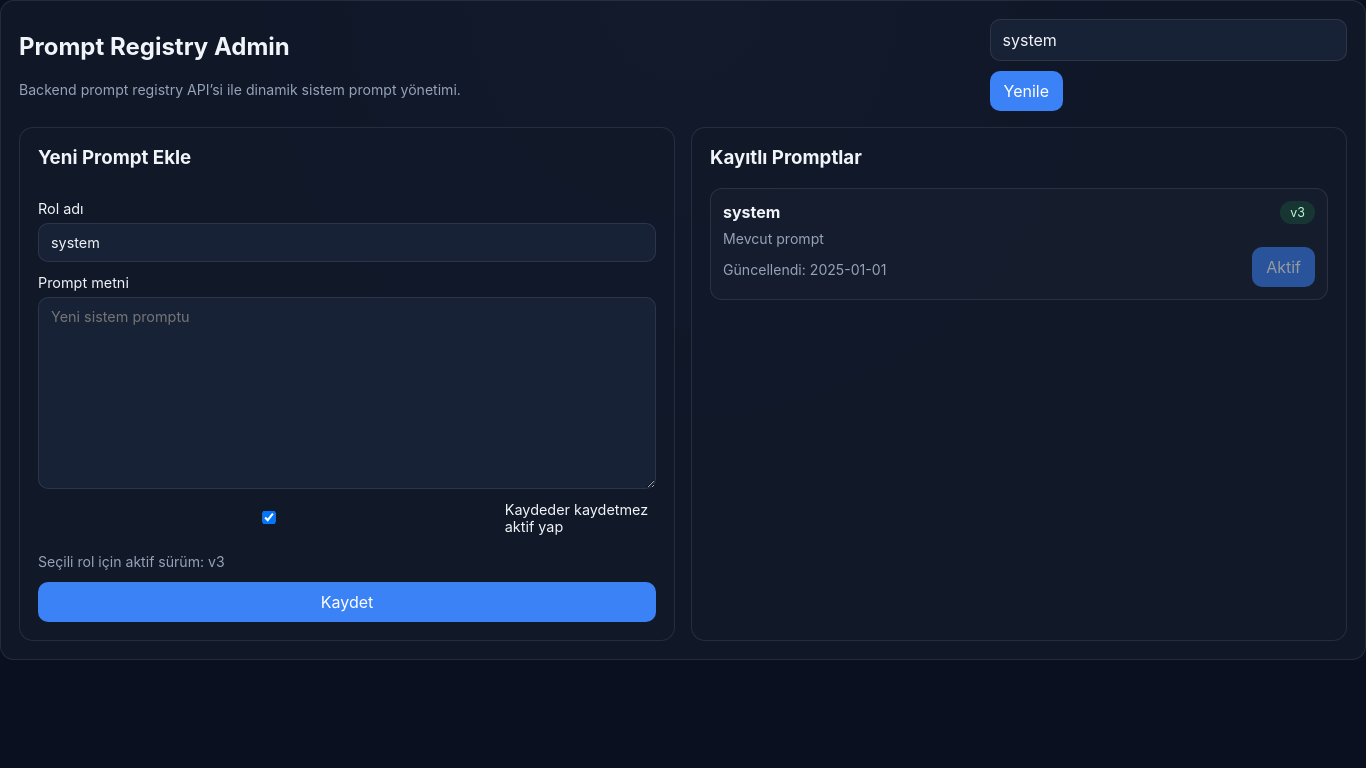
it: PromptAdminPanel › loads prompts and submits a new prompt revision
Expected: the text "system" is shown, [723,202,780,222]
Type "test_rol_adi" into the field labelled "Rol adı" at (347, 242), box [38,223,656,262]
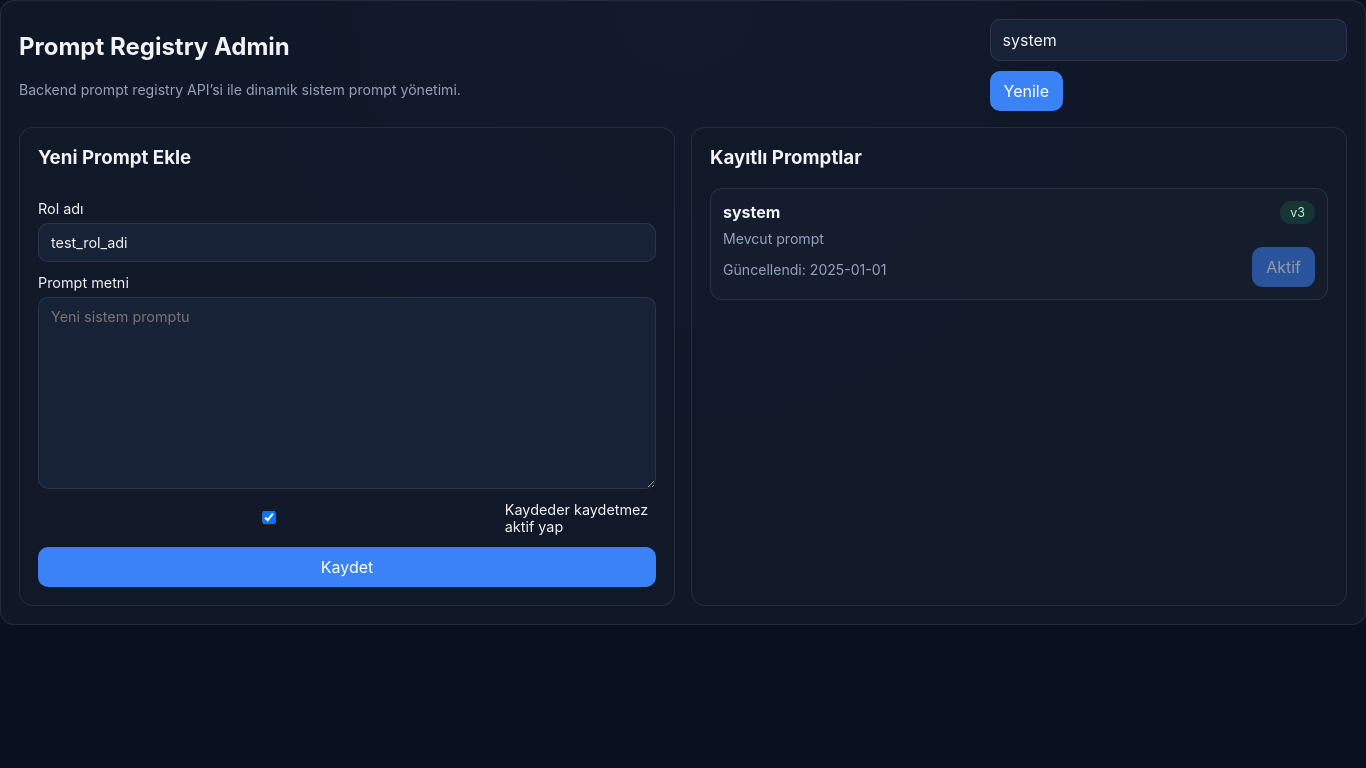
Type "Yeni prompt metni" into the text box with placeholder "Yeni sistem promptu" at (347, 393), box [38,297,656,489]
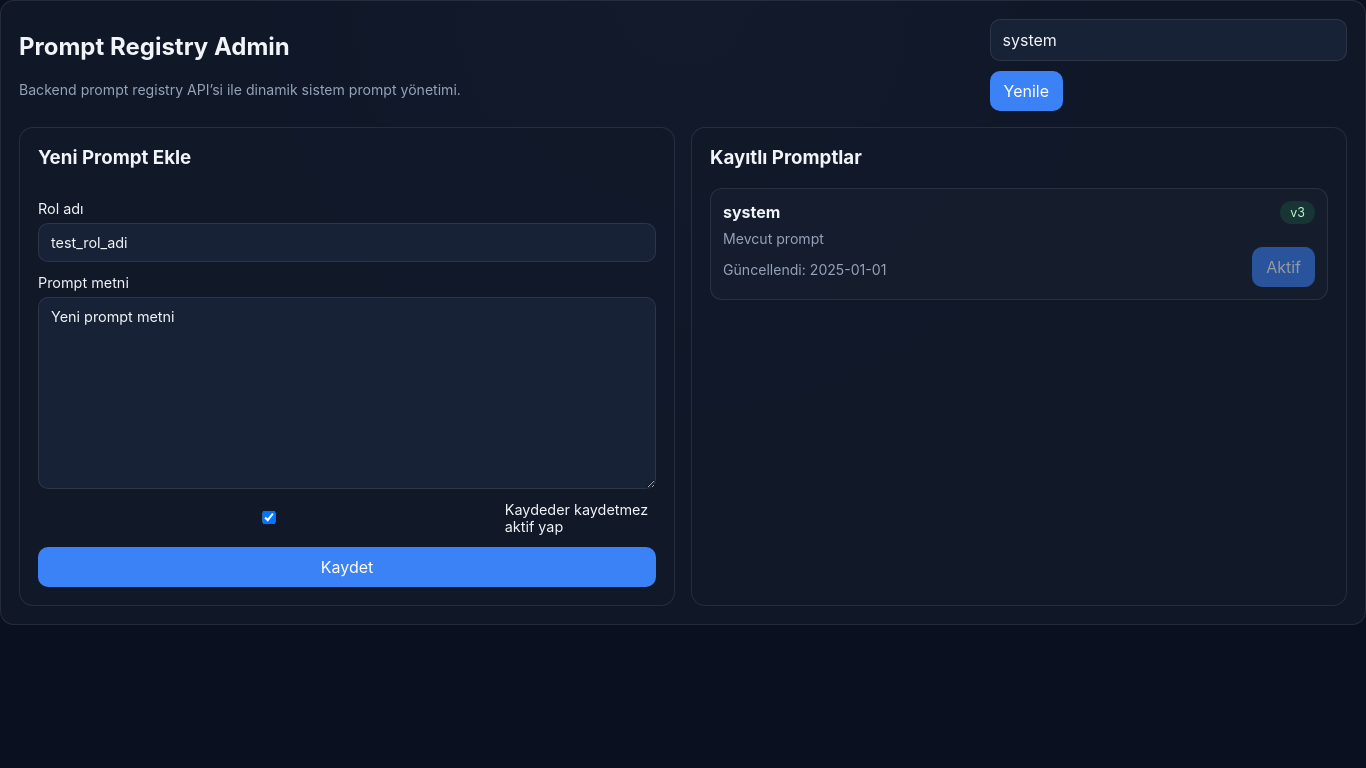
Click the button "Kaydet" at (347, 567), box [38,547,656,587]
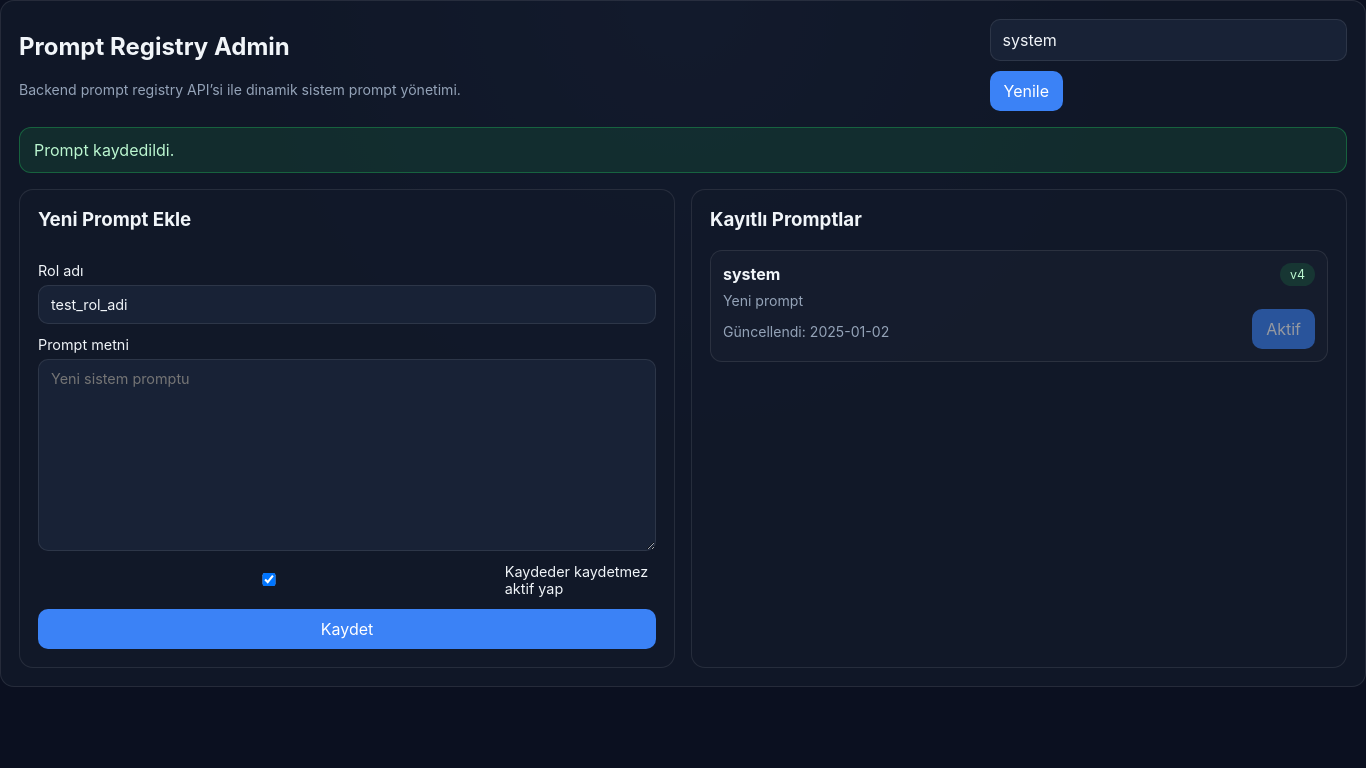
Result: the text "Prompt kaydedildi." is shown at [19,127,1347,173]
